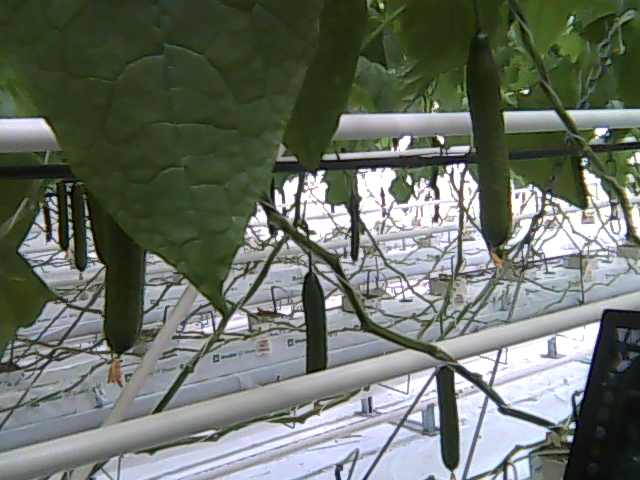concombre: (464, 27, 516, 277), (101, 211, 149, 390)
